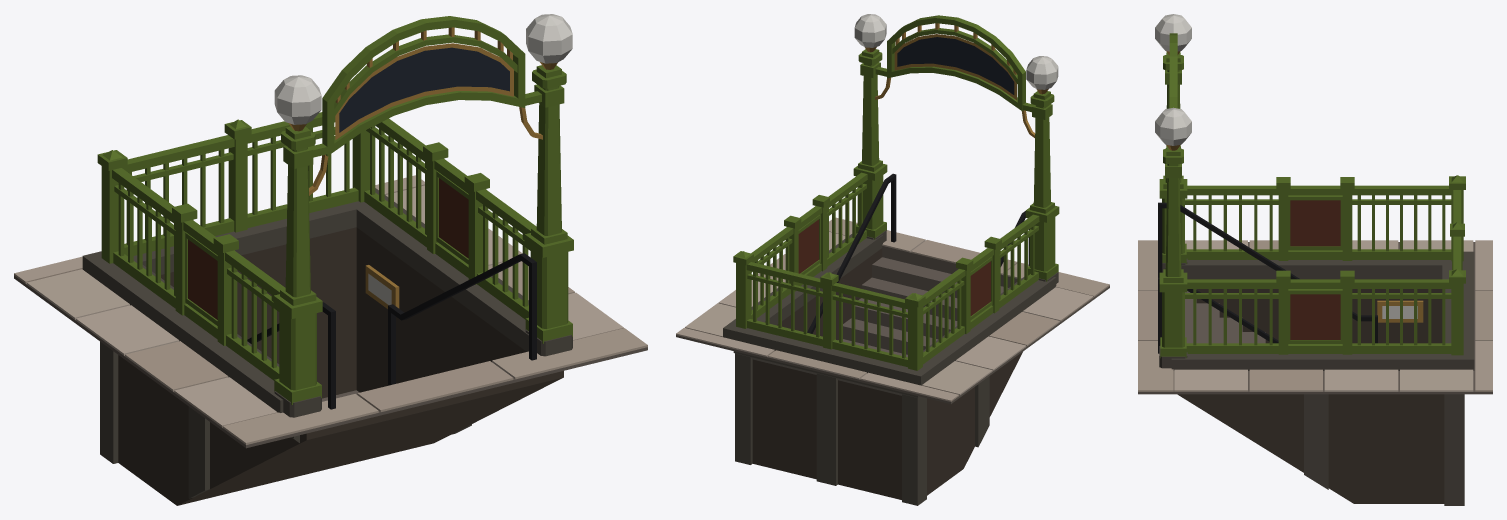
The model's file is subway-entrance-9ccc8b.glb.
3 views of the same model, side by side, from view 1: azimuth 30°, elevation 25°; view 2: azimuth 150°, elevation 25°; view 3: azimuth 270°, elevation 25° (orthographic). The views are drawn at different scales.
Parts seen in each view (by area): view 1: subway-entrance-body; view 2: subway-entrance-body; view 3: subway-entrance-body.
Part boxes in pixels (left/top/right/bottom): subway-entrance-body: left=14, top=14, right=647, bottom=505; subway-entrance-body: left=676, top=14, right=1109, bottom=505; subway-entrance-body: left=1138, top=14, right=1492, bottom=505.
Bounding box in the file's own units: 4 × 5.14 × 4.
